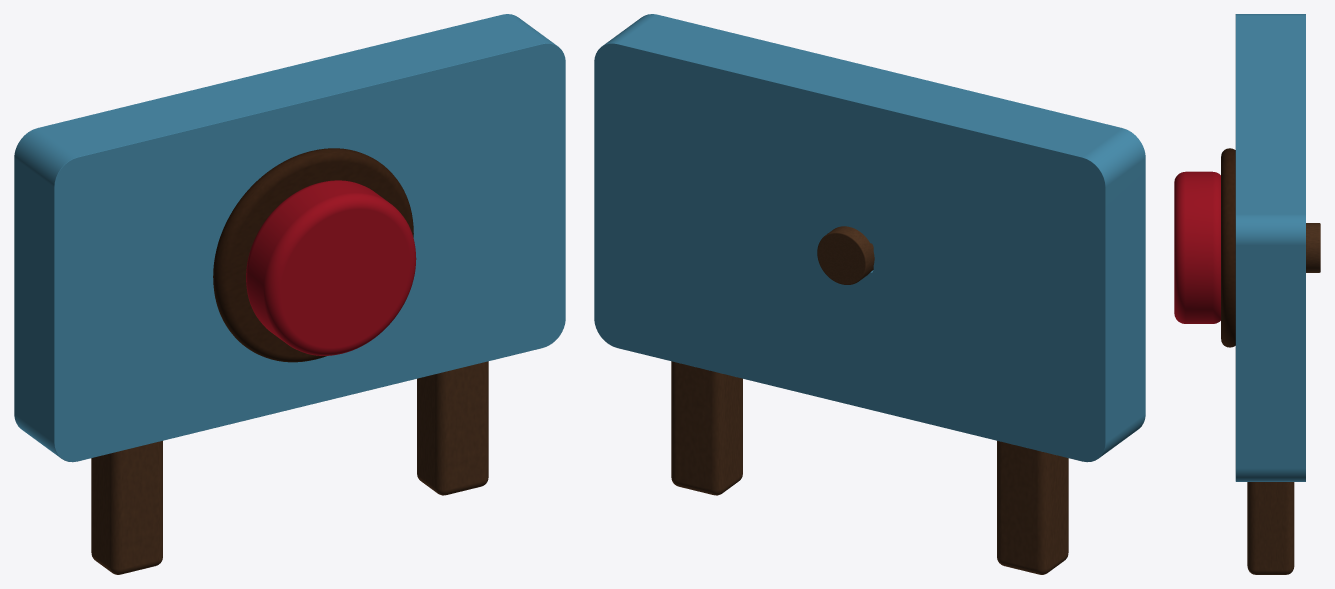
The model's file is start-release-button.glb.
The picture shows the model from 3 angles, left to right: view 1: azimuth 30°, elevation 25°; view 2: azimuth 150°, elevation 25°; view 3: azimuth 270°, elevation 25°; orthographic projection. The views are drawn at different scales.
Visible parts, largest first — view 1: A | painted v5 perforated backing, Red button | unmarked cap, Red button | walnut bezel, A | dark wood upright.001, A | dark wood upright; view 2: A | painted v5 perforated backing, A | dark wood upright.001, A | dark wood upright, A | single flat-head peg; view 3: A | painted v5 perforated backing, Red button | unmarked cap, A | dark wood upright.001, Red button | walnut bezel, A | single flat-head peg.
Part boxes in pixels (box(x1,y1,x2,y2)): A | painted v5 perforated backing: box(14, 14, 565, 462); Red button | unmarked cap: box(246, 180, 416, 355); Red button | walnut bezel: box(213, 148, 413, 362); A | dark wood upright.001: box(417, 361, 488, 495); A | dark wood upright: box(91, 441, 162, 574); A | painted v5 perforated backing: box(594, 14, 1145, 462); A | dark wood upright.001: box(671, 361, 742, 495); A | dark wood upright: box(997, 441, 1068, 574); A | single flat-head peg: box(817, 226, 874, 284); A | painted v5 perforated backing: box(1235, 14, 1305, 481); Red button | unmarked cap: box(1174, 171, 1220, 323); A | dark wood upright.001: box(1247, 482, 1294, 574); Red button | walnut bezel: box(1221, 148, 1235, 347); A | single flat-head peg: box(1306, 223, 1320, 272).
Bounding box in the file's own units: 0.176 × 0.144 × 0.05.
6 materials, 4 textured.
